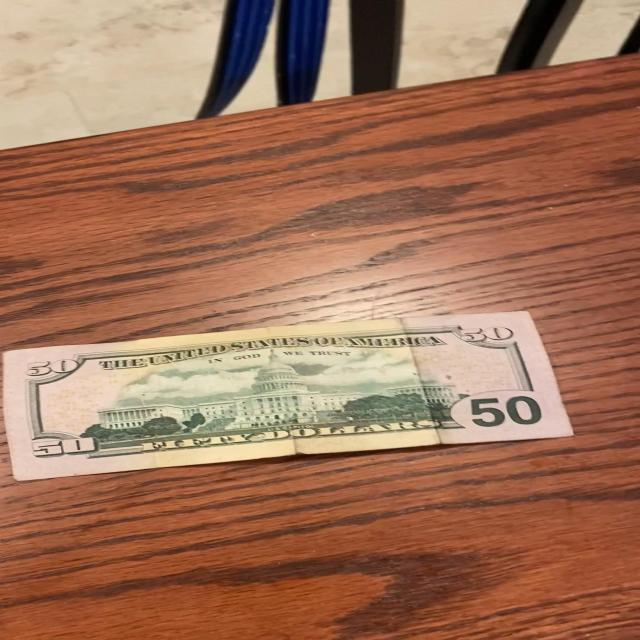50-Back: (2, 307, 582, 486)
